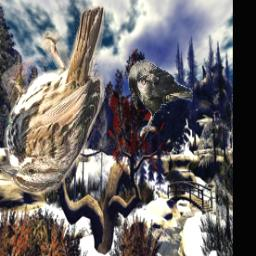Crow: (128, 60, 193, 138)
Sparrow: (0, 6, 105, 196)
